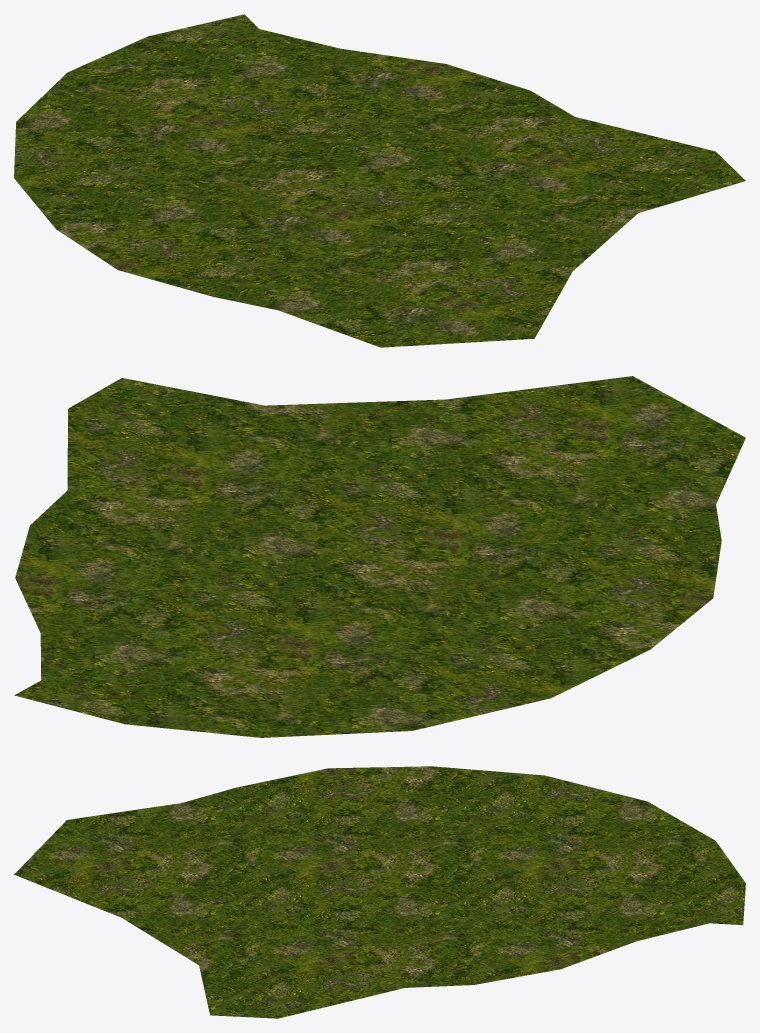
File: OVERHILL_A_01_LINE15.fbx
3 views of the same model, one above another, from view 1: azimuth 30°, elevation 25°; view 2: azimuth 150°, elevation 25°; view 3: azimuth 270°, elevation 25° (orthographic). The views are drawn at different scales.
Parts seen in each view (by area): view 1: OVERHILL_A_01_LINE15; view 2: OVERHILL_A_01_LINE15; view 3: OVERHILL_A_01_LINE15.
Boxes of the visible parts, box(x1,y1,x2,y2) form: OVERHILL_A_01_LINE15: box(14, 14, 745, 347); OVERHILL_A_01_LINE15: box(14, 376, 745, 737); OVERHILL_A_01_LINE15: box(14, 766, 745, 1018).
Size of the model in its own units: 53195 by 0.0106 by 65203.
1 material, 1 textured.
